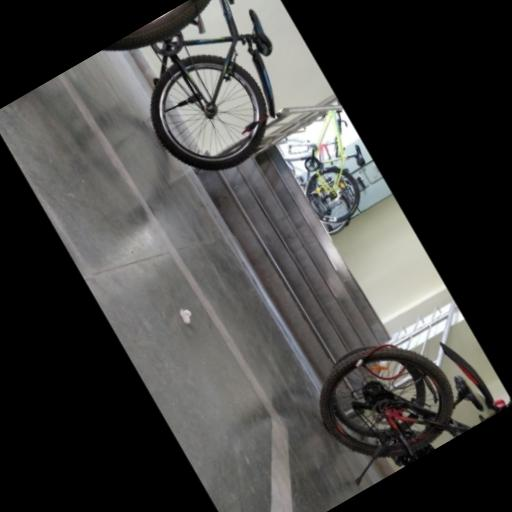stairs: (197, 146, 388, 377)
